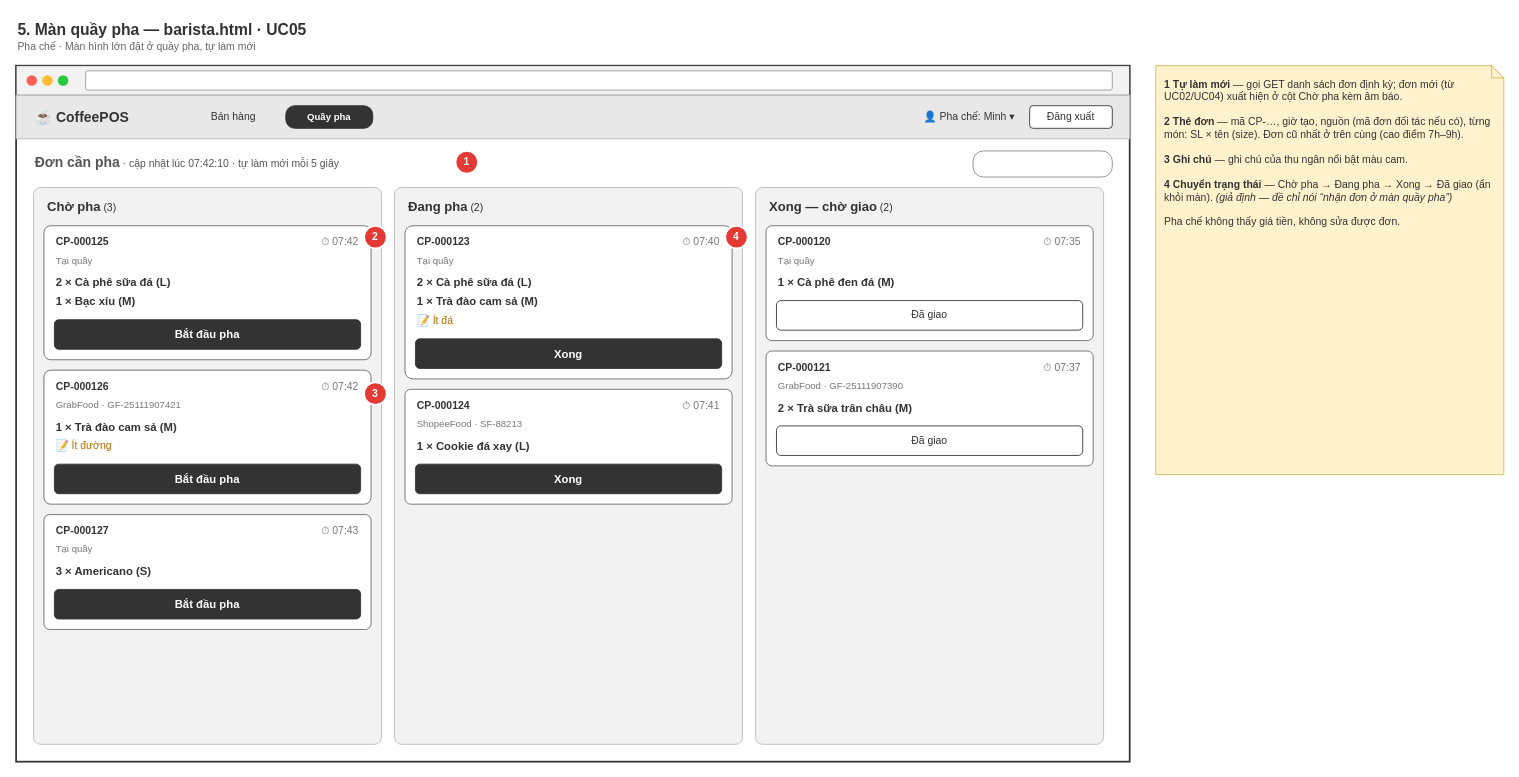
The diagram is 1519 pixels wide and 777 high, and some of its shapes have lost their labels. The shapes that lost their labels are listed below. From the top down, each one's box as (x1, y1, x2, y2) in pixels, then its label:
(85, 70, 1112, 90): localhost:3000/barista.html
(972, 150, 1112, 177): 🔔 Âm báo: Bật
